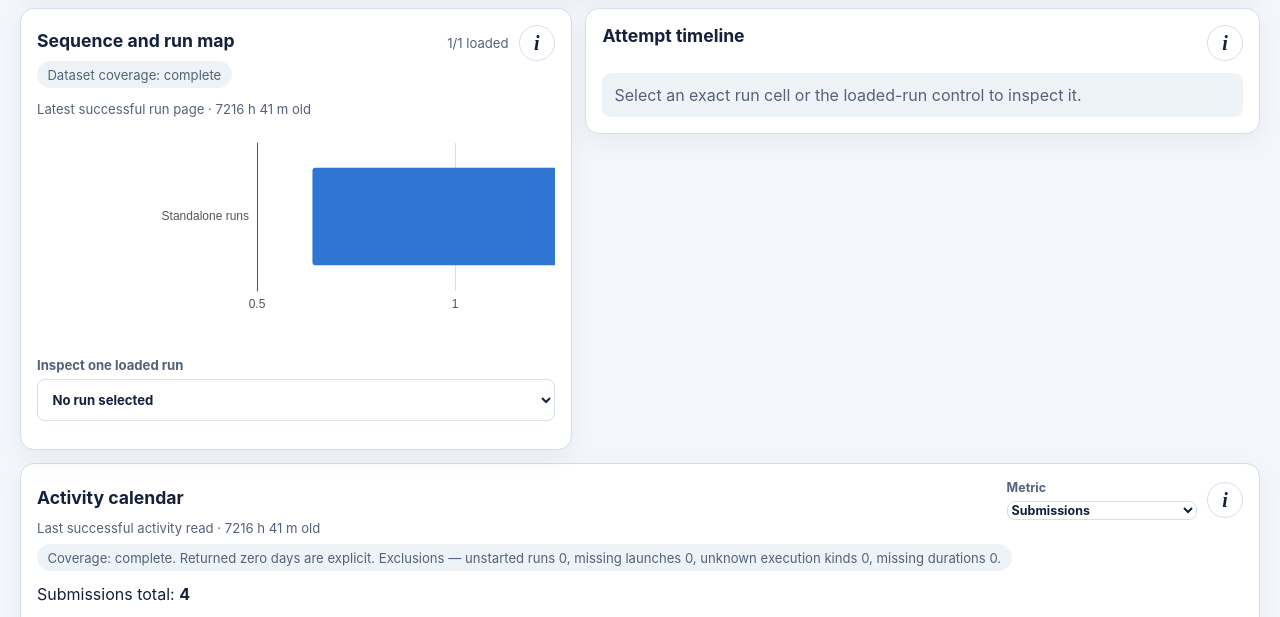
Scenario: C263 overview shell › clears exact run and attempt ownership when an immediate project change retires scope
The width and height of the screenshot is (1280, 617).
(page scrolled)
Select "Standalone runs · Standalone run · cursor · standalone-run" in the dropdown named "Select loaded run" at (296, 400), box [37, 379, 555, 421]
(page scrolled)
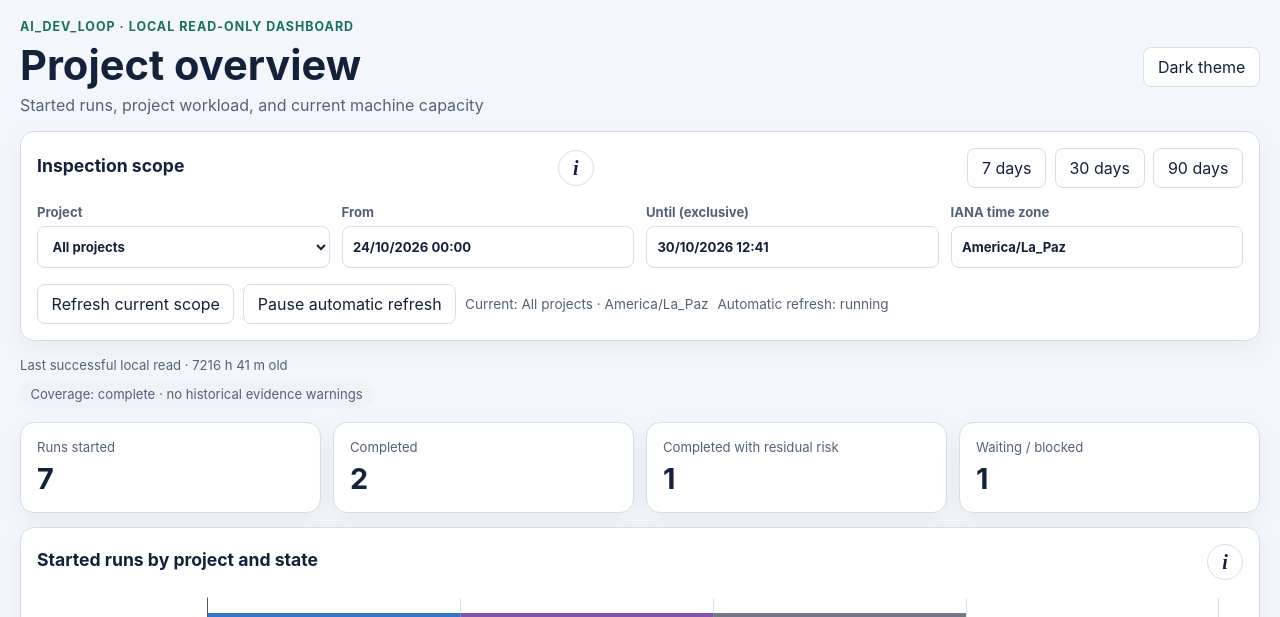
Select "project-b" in the dropdown labelled "Project" at (183, 247), box [37, 226, 330, 268]
(page scrolled)
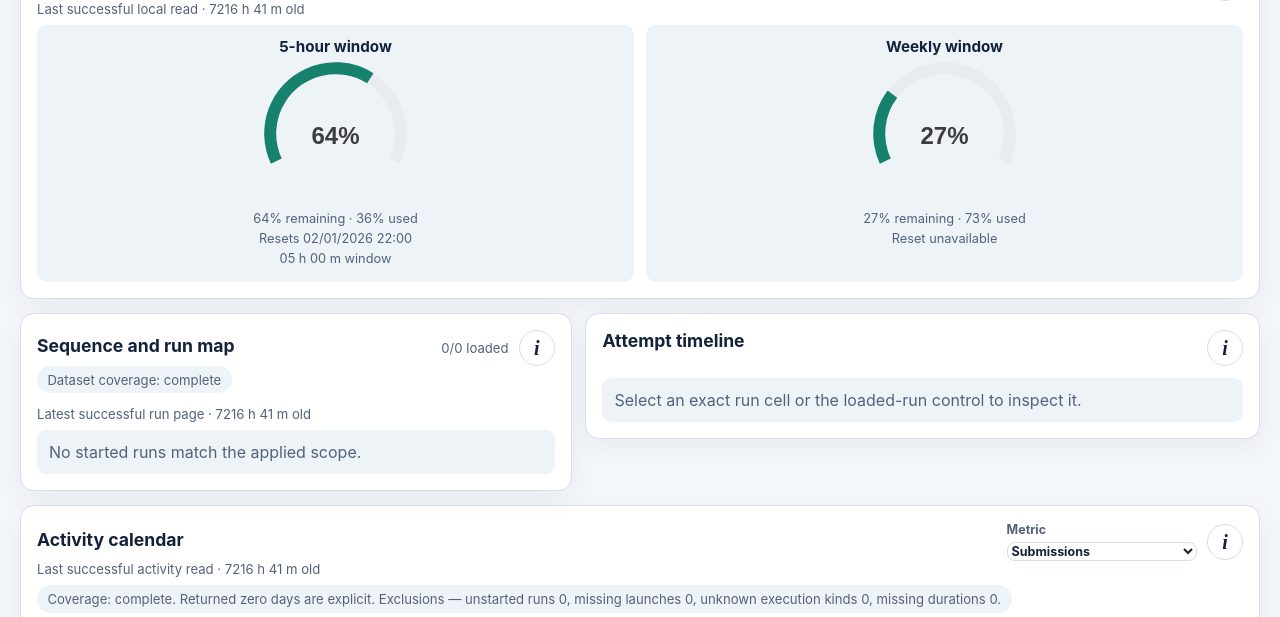
Expected: the text "Select an exact run cell or the loaded-run control to inspect it." is shown, [602, 378, 1243, 422]
